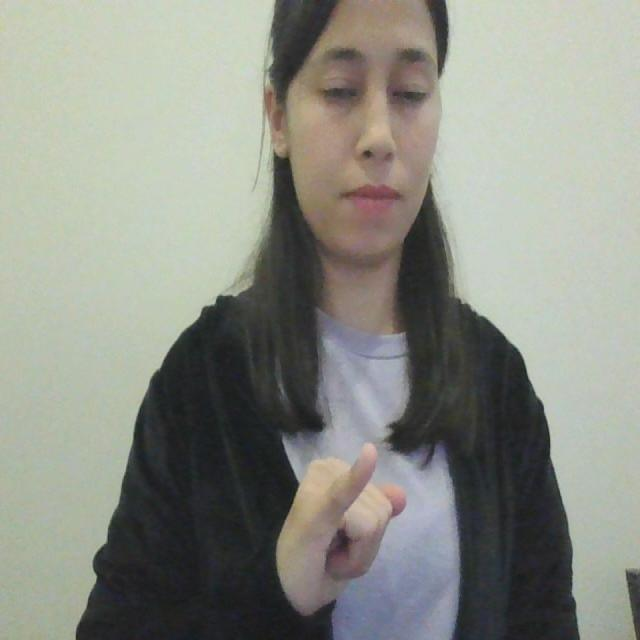kotu: (278, 436, 416, 618)
